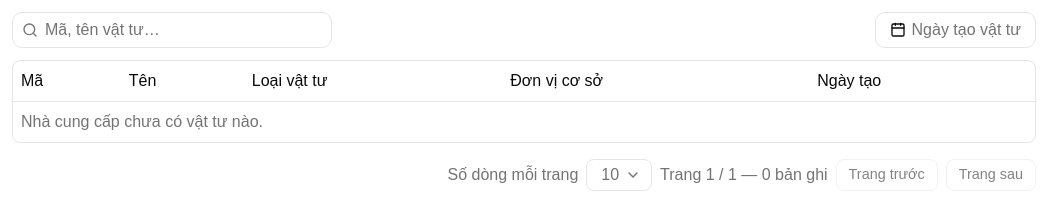
Test: SupplierMaterials — lọc (canFilter) › trống khi tìm theo mã → câu nêu mã; theo tên → câu nêu tên
The width and height of the screenshot is (1048, 208).
Expected: the text "Nhà cung cấp chưa có vật tư nào." is shown, x1=13 y1=101 x2=1035 y2=142
Type "nl99" into the search field at (172, 30), box x1=12 y1=12 x2=332 y2=48
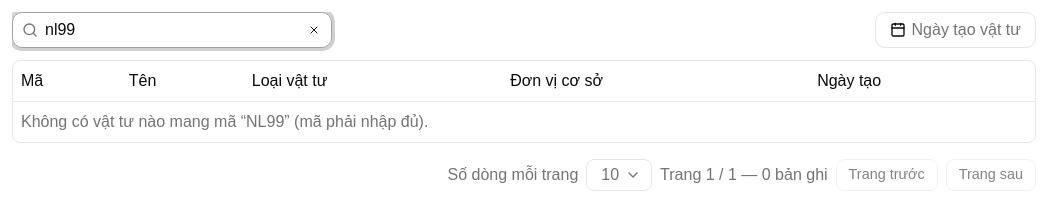
Expected: the text "Không có vật tư nào mang mã “NL99” (mã phải nhập đủ)." is shown, x1=13 y1=101 x2=1035 y2=142
Replace the text in the search field with "xi măng" at (172, 30), box x1=12 y1=12 x2=332 y2=48
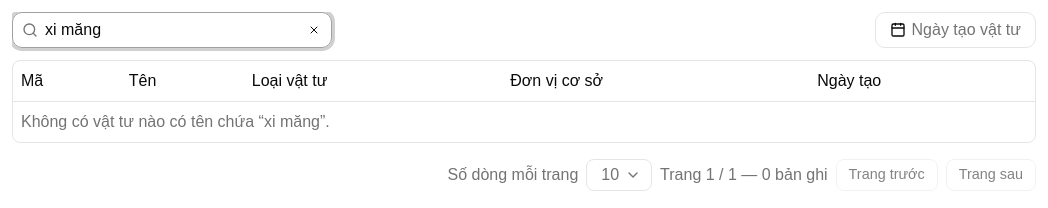
Expected: the text "Không có vật tư nào có tên chứa “xi măng”." is shown, x1=13 y1=101 x2=1035 y2=142
